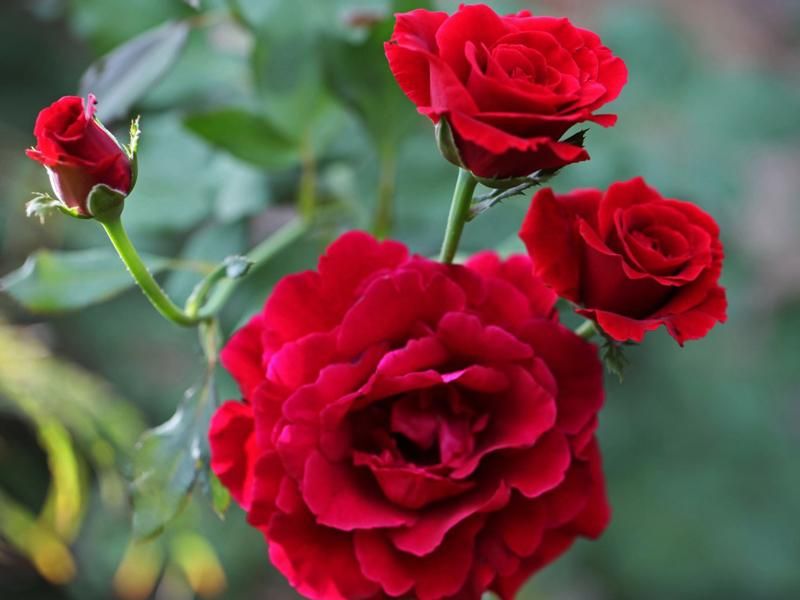rose: (206, 228, 612, 598), (382, 2, 628, 186), (516, 173, 727, 346), (25, 91, 137, 219)
